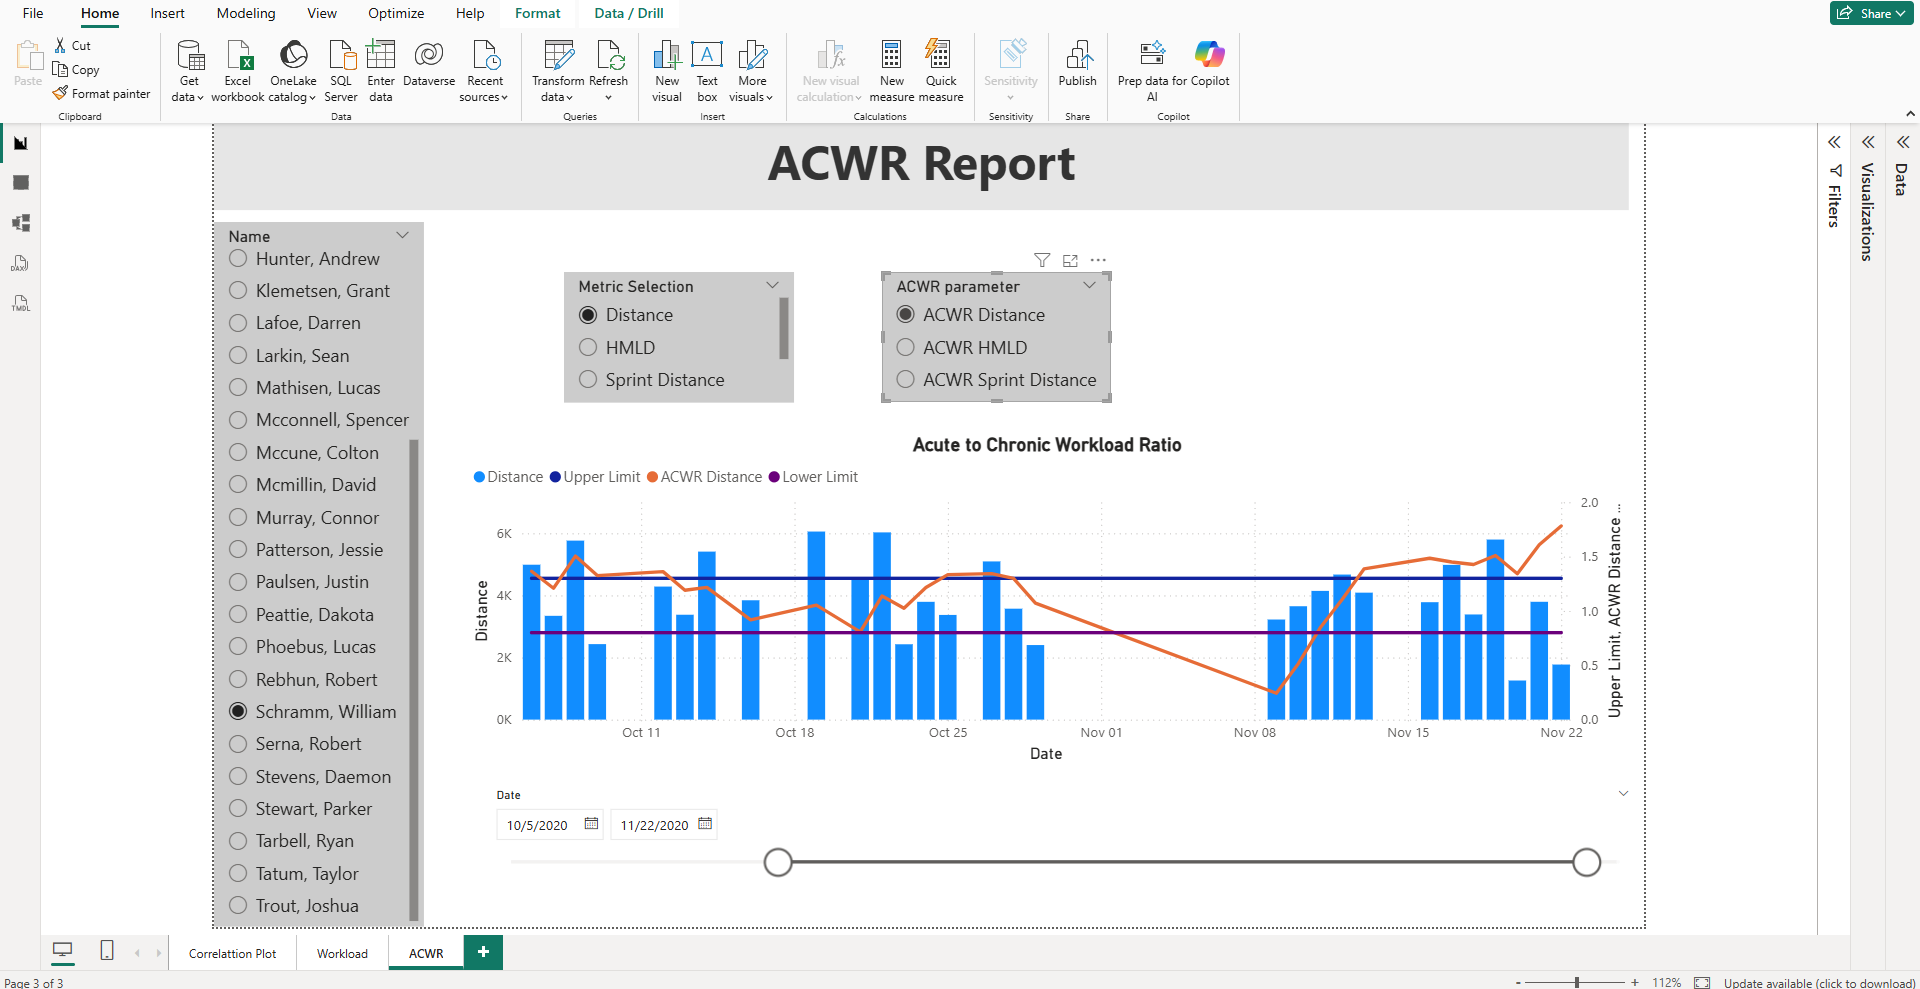

Layout of this report page (visuals, bound fields, positions):
{"tool":"powerbi","page":{"name":"ACWR","canvas":[1280,720],"ordinal":2},"visuals":[{"type":"lineStackedColumnComboChart","title":"Acute to Chronic  Workload Ratio","fields":{"Y":["daily_gps_data.Total Sprint Distance"],"Y2":["daily_gps_data.Upper Limit","daily_gps_data.ACWR Sprint Distance","daily_gps_data.Lower Limit"],"Category":["daily_gps_data.Date"]},"box":[226.6,277.6,1039.7,300],"z":0},{"type":"slicer","fields":{"Values":["daily_gps_data.Name"]},"box":[0,88.7,188.1,631.3],"z":1000},{"type":"slicer","fields":{"Values":["daily_gps_data.Date"]},"box":[240,590.1,1039.7,118.2],"z":2000},{"type":"slicer","fields":{"Values":["Metric Selection.Metric Selection"]},"box":[313.4,133.4,206,117.3],"z":3000},{"type":"slicer","fields":{"Values":["ACWR parameter.ACWR parameter"]},"box":[598.2,133.4,205.1,116.4],"z":4000},{"type":"textbox","box":[0,0,1267.2,77.9],"z":5000}]}

Visuals, with their boxes on the page's 1280x720 design canvas (x1, y1, x2, y2). These are canvas units, not pixel positions in the 1920x989 screenshot, which may show the page scaled, cropped or inside an application window:
"Acute to Chronic  Workload Ratio" lineStackedColumnComboChart: {"left": 227, "top": 278, "right": 1266, "bottom": 578}
slicer - daily_gps_data.Name: {"left": 0, "top": 89, "right": 188, "bottom": 720}
slicer - daily_gps_data.Date: {"left": 240, "top": 590, "right": 1280, "bottom": 708}
slicer - Metric Selection.Metric Selection: {"left": 313, "top": 133, "right": 519, "bottom": 251}
slicer - ACWR parameter.ACWR parameter: {"left": 598, "top": 133, "right": 803, "bottom": 250}
textbox: {"left": 0, "top": 0, "right": 1267, "bottom": 78}
